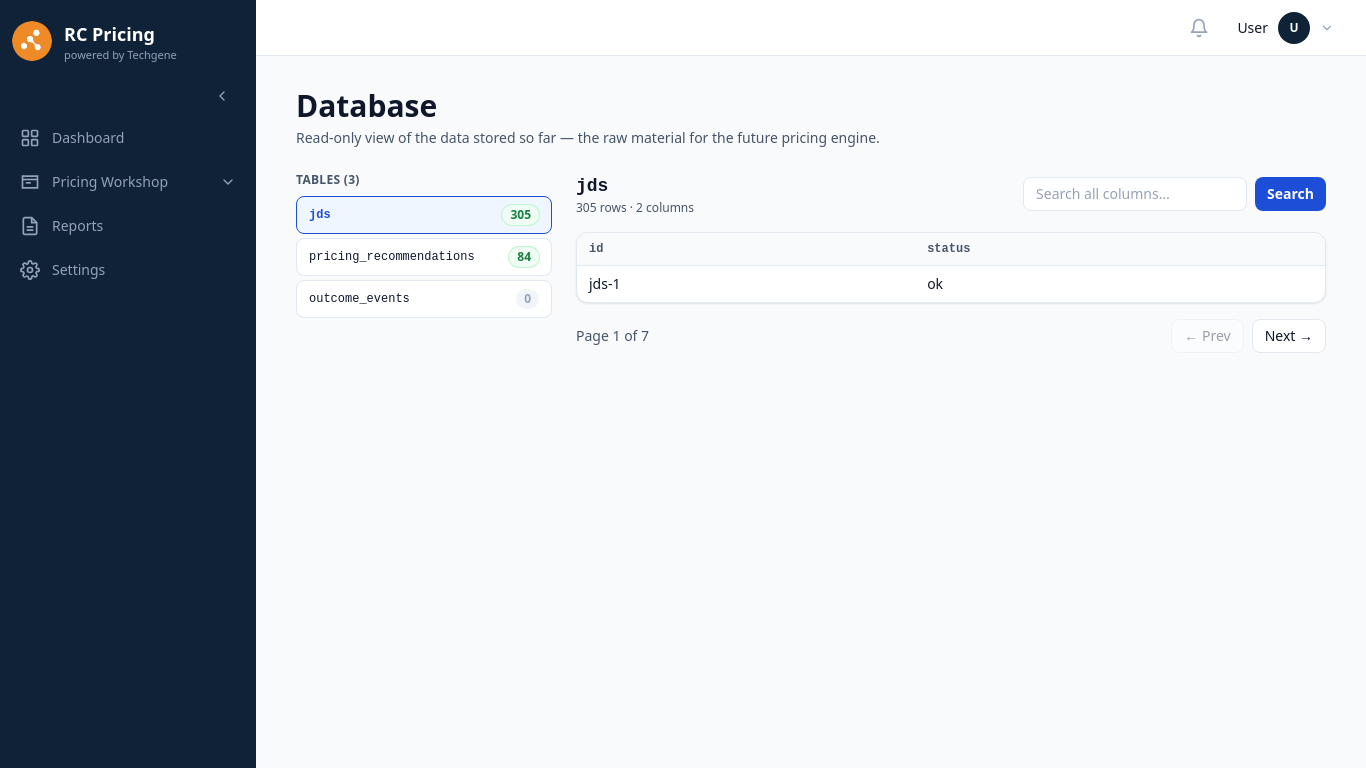
it: DatabaseView › switches tables when another is clicked
The width and height of the screenshot is (1366, 768).
Click the text "pricing_recommendations".
click(392, 257)  # box [309,249,475,265]
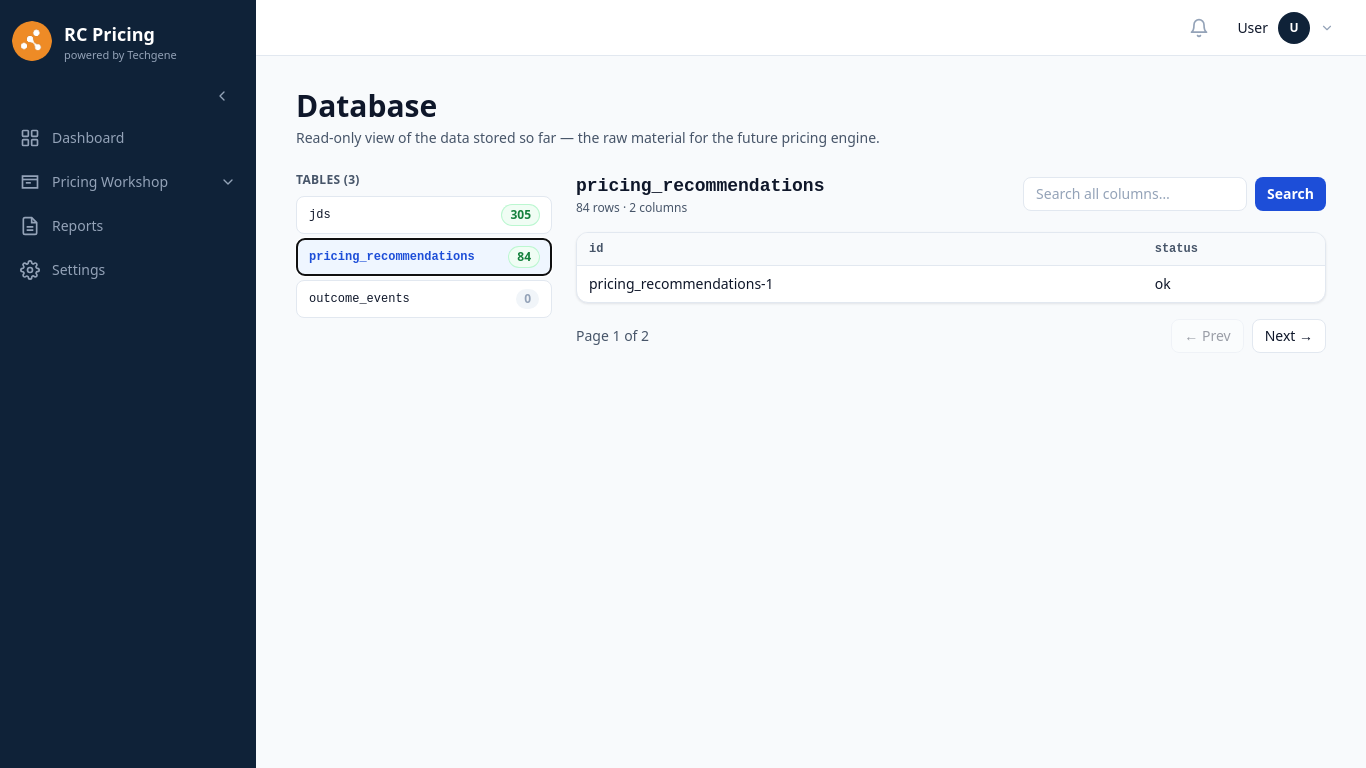
Expected: the text "pricing_recommendations-1" is shown, [577,266,1143,302]
